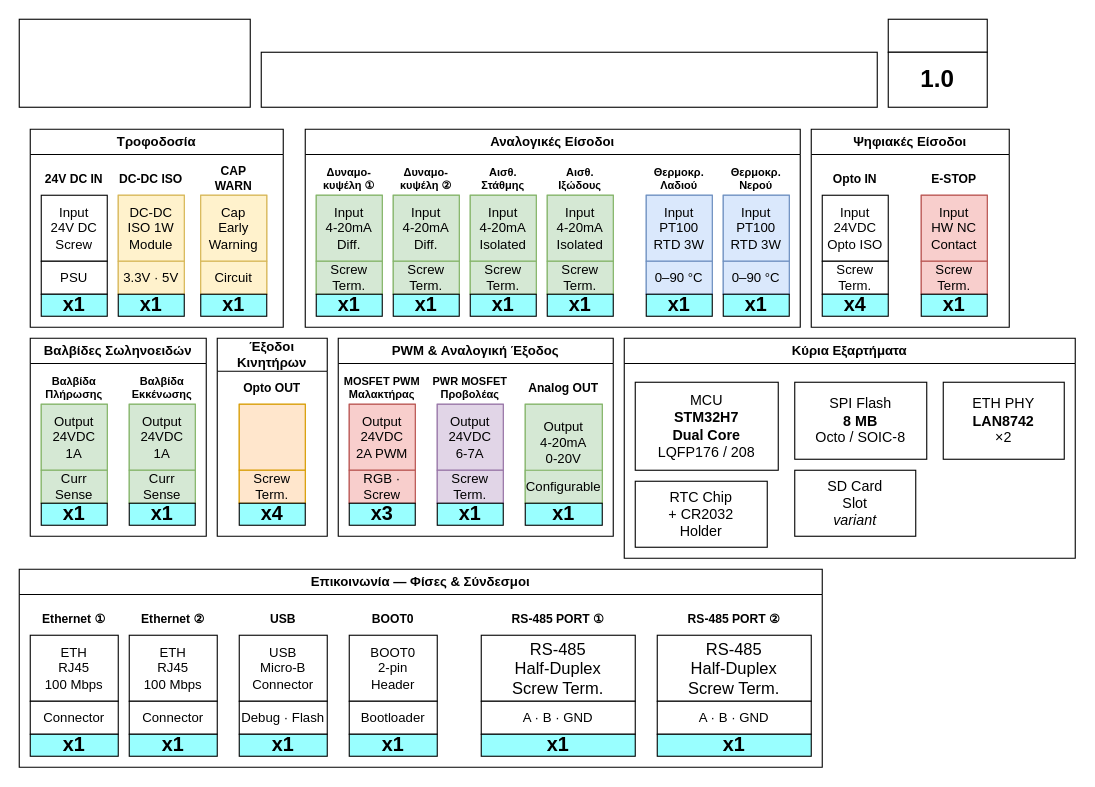
This 1095x787 diagram has some shape labels left out. Here are the shapes that lost their labels. From the top down, the centre of each, then its label:
the point at 937,35: Έκδοση
the point at 134,62: Διάγραμμα Hardware Συνδέσεις Πλακέτας
the point at 568,79: OliveCrab — Φίσες, Σήματα & Εξαρτήματα
the point at 271,436: Output OC Opto ISO
